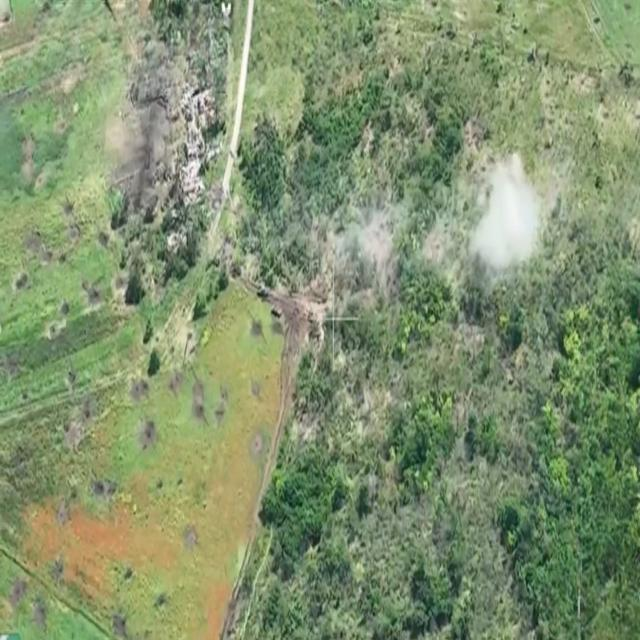AIFV: (271, 303, 285, 321)
MBT: (256, 282, 272, 301)
